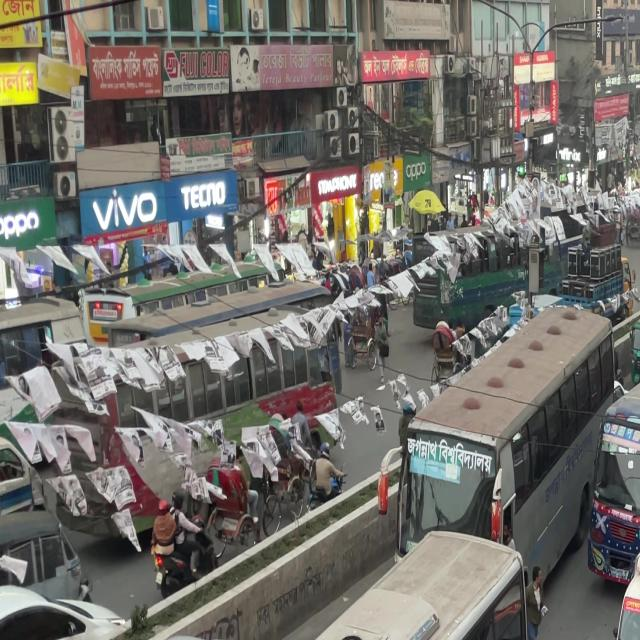bus: (362, 263, 632, 540)
motorbike: (140, 513, 540, 640)
van: (598, 500, 640, 640)
